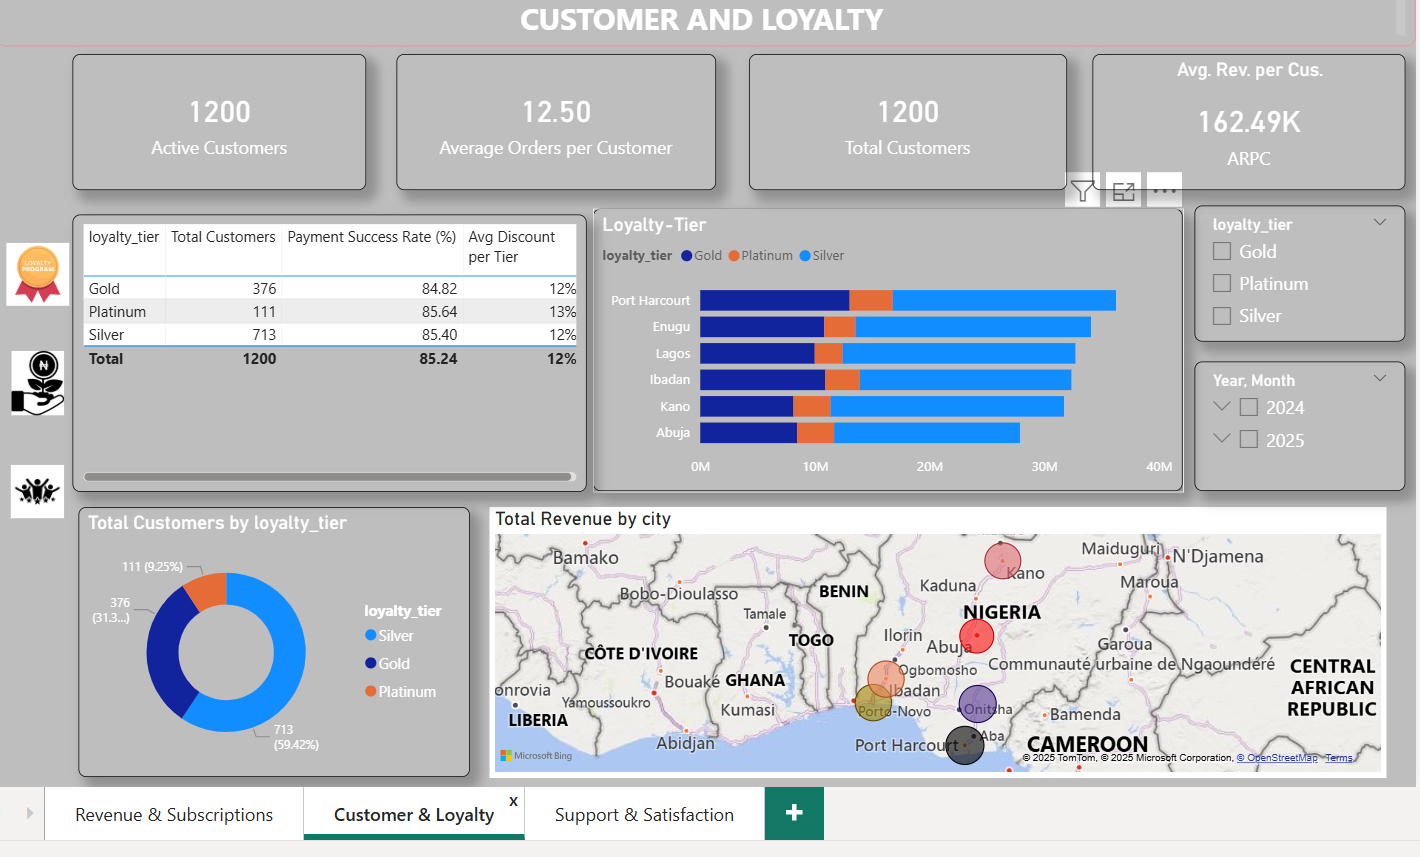

The page's visual inventory and layout, read from the dashboard file:
{"tool":"powerbi","page":{"name":"Customer & Loyalty ","canvas":[1280,720],"ordinal":1},"visuals":[{"type":"textbox","box":[0,0,1279.5,53],"z":0},{"type":"card","fields":{"Values":["public support_tickets.Average Orders per Customer"]},"box":[361.4,59,288,122.4],"z":1000},{"type":"barChart","title":"Loyalty-Tier","fields":{"Category":["public customers.city"],"Y":["public support_tickets.Total Revenue"],"Series":["public customers.loyalty_tier"]},"box":[538.6,198.7,531.4,254.9],"z":2000},{"type":"card","fields":{"Values":["public support_tickets.Total Customers"]},"box":[678.2,59,286.6,122.4],"z":3000},{"type":"card","title":"Avg. Rev. per Cus.","fields":{"Values":["public support_tickets.Average Revenue per Customer (ARPC)"]},"box":[987.8,59,282.2,122.4],"z":4000},{"type":"card","fields":{"Values":["public support_tickets.Active Customers"]},"box":[69.1,59,265,122.4],"z":5000},{"type":"donutChart","fields":{"Y":["public support_tickets.Total Customers"],"Category":["public customers.loyalty_tier"]},"box":[74.9,468,352.8,243.4],"z":6000},{"type":"map","fields":{"Category":["public customers.city"],"Size":["public support_tickets.Total Revenue"]},"box":[445,468,807.8,243.4],"z":7000},{"type":"tableEx","title":"Customer Tier Summary","fields":{"Values":["public customers.loyalty_tier","public support_tickets.Total Customers","public support_tickets.Payment Success Rate (%)","public support_tickets.Avg Discount per Tier"]},"box":[68.9,204.1,463.6,250.1],"z":8000},{"type":"slicer","fields":{"Values":["public customers.loyalty_tier"]},"box":[1080,195.8,190.1,122.4],"z":9000},{"type":"slicer","fields":{"Values":["DateTable.Date.Variation.Date Hierarchy.Year","DateTable.Date.Variation.Date Hierarchy.Month"]},"box":[1080,337,190.1,116.6],"z":10000},{"type":"image","box":[0,225,75,66.7],"z":11000},{"type":"image","box":[0,321.7,75,68.3],"z":12000},{"type":"image","box":[0,425,75,58.3],"z":13000}]}

Visuals, with their boxes on the page's 1280x720 design canvas (x1, y1, x2, y2). These are canvas units, not pixel positions in the 1420x857 screenshot, which may show the page scaled, cropped or inside an application window:
textbox: bbox=(0, 0, 1280, 53)
card - public support_tickets.Average Orders per Customer: bbox=(361, 59, 649, 181)
"Loyalty-Tier" barChart: bbox=(539, 199, 1070, 454)
card - public support_tickets.Total Customers: bbox=(678, 59, 965, 181)
"Avg. Rev. per Cus." card: bbox=(988, 59, 1270, 181)
card - public support_tickets.Active Customers: bbox=(69, 59, 334, 181)
donutChart - public support_tickets.Total Customers x public customers.loyalty_tier: bbox=(75, 468, 428, 711)
map - public customers.city x public support_tickets.Total Revenue: bbox=(445, 468, 1253, 711)
"Customer Tier Summary" tableEx: bbox=(69, 204, 532, 454)
slicer - public customers.loyalty_tier: bbox=(1080, 196, 1270, 318)
slicer - DateTable.Date.Variation.Date Hierarchy.Year x DateTable.Date.Variation.Date Hierarchy.Month: bbox=(1080, 337, 1270, 454)
image: bbox=(0, 225, 75, 292)
image: bbox=(0, 322, 75, 390)
image: bbox=(0, 425, 75, 483)
